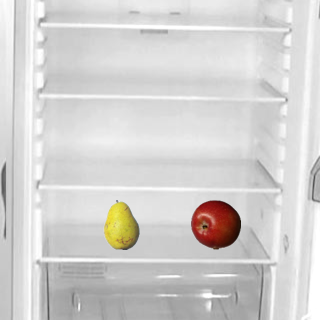Apple Braeburn: (190, 199, 240, 249)
Pear Monster: (96, 199, 146, 249)
